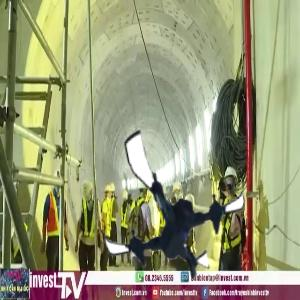drone: (90, 124, 253, 287)
